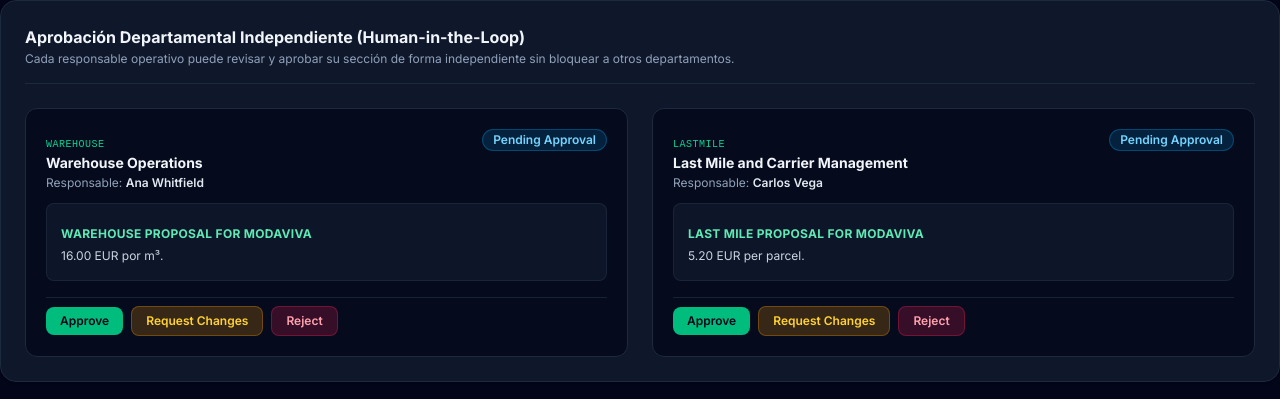
Scenario: DepartmentApprovalPanel Component Tests (T028, T029 - User Story 4) › T028: renders department lead cards and submits approve decision updating badge independently
Click the button with test id "approve-btn-lastmile".
click(712, 320)  # box x1=673 y1=306 x2=750 y2=334
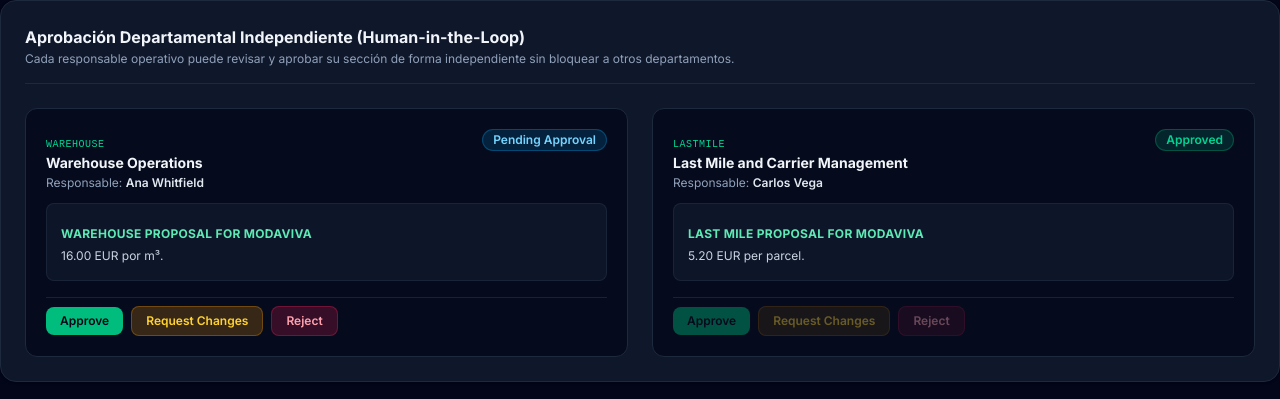
Check: the element with test id "department-approval-card-warehouse" shows "Pending Approval", box x1=493 y1=132 x2=596 y2=147
Check: the element with test id "department-approval-card-lastmile" shows "Approved", box x1=1166 y1=132 x2=1223 y2=147
